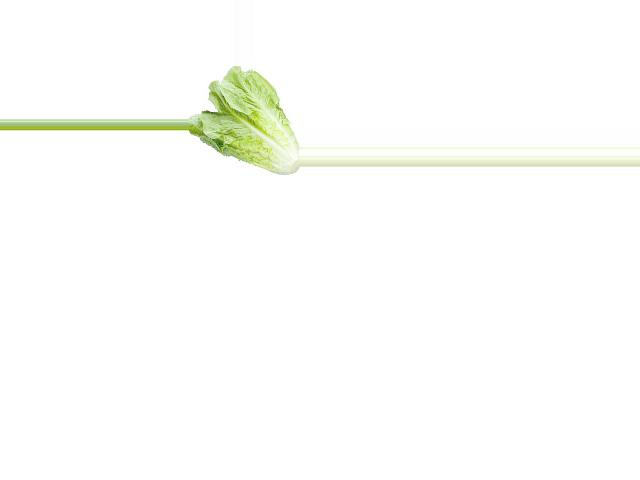lettuce: (191, 64, 298, 175)
